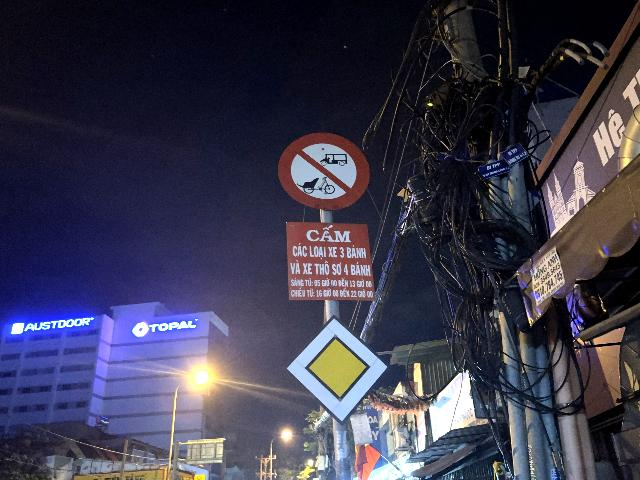bat-dau-duong-uu-tien: (285, 315, 390, 425)
cam-xe-3-banh-xe-tho-so-4-banh: (278, 132, 371, 211)
